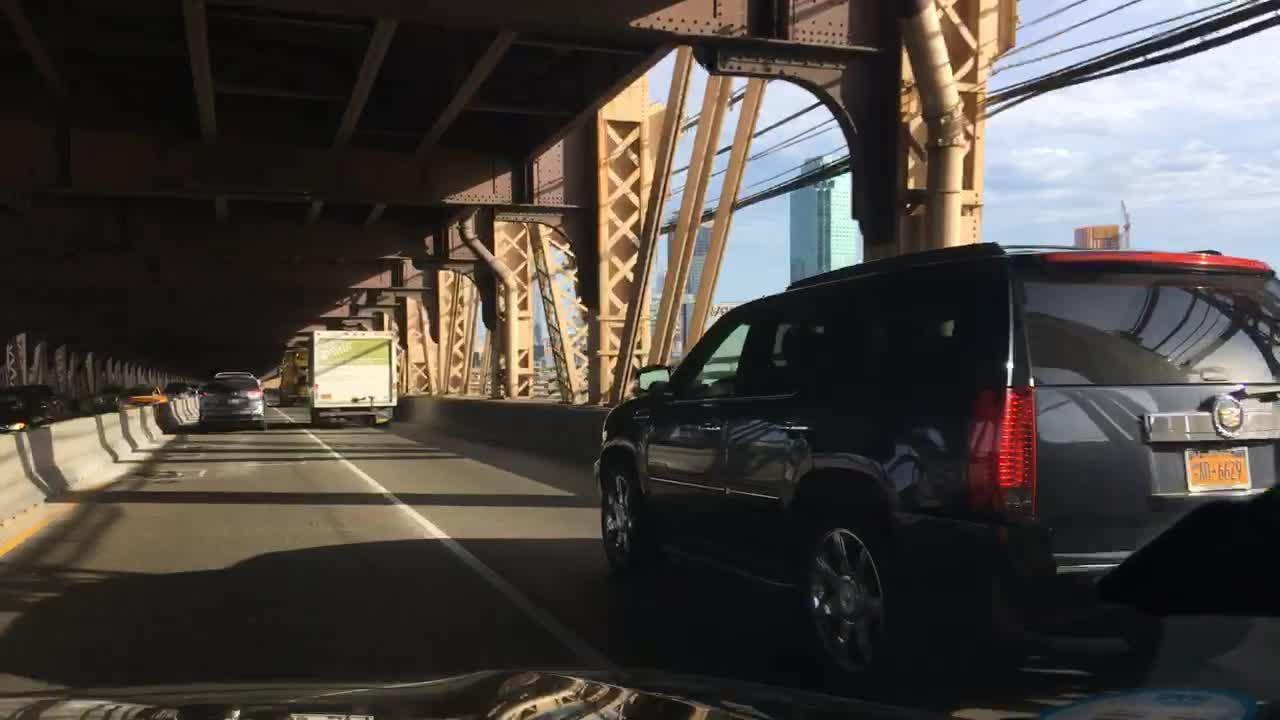cadillac: (1207, 389, 1246, 438)
